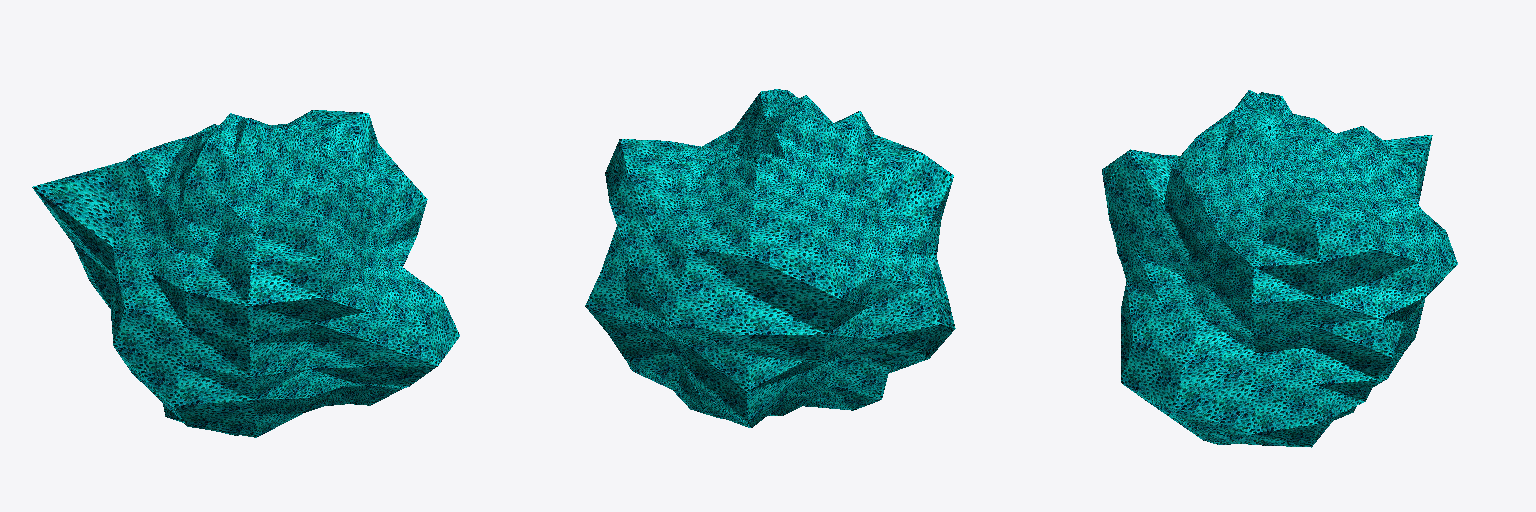
The picture shows the model from 3 angles: view 1: azimuth 30°, elevation 25°; view 2: azimuth 150°, elevation 25°; view 3: azimuth 270°, elevation 25°; orthographic projection.
Visible parts, largest first — view 1: Landscape; view 2: Landscape; view 3: Landscape.
Boxes of the visible parts, x1=… form: Landscape: x1=32, y1=110, x2=459, y2=437; Landscape: x1=585, y1=89, x2=955, y2=427; Landscape: x1=1102, y1=90, x2=1457, y2=447.
Size of the model in its own units: 6.21 by 5.85 by 6.08.
1 materials, 1 textured.